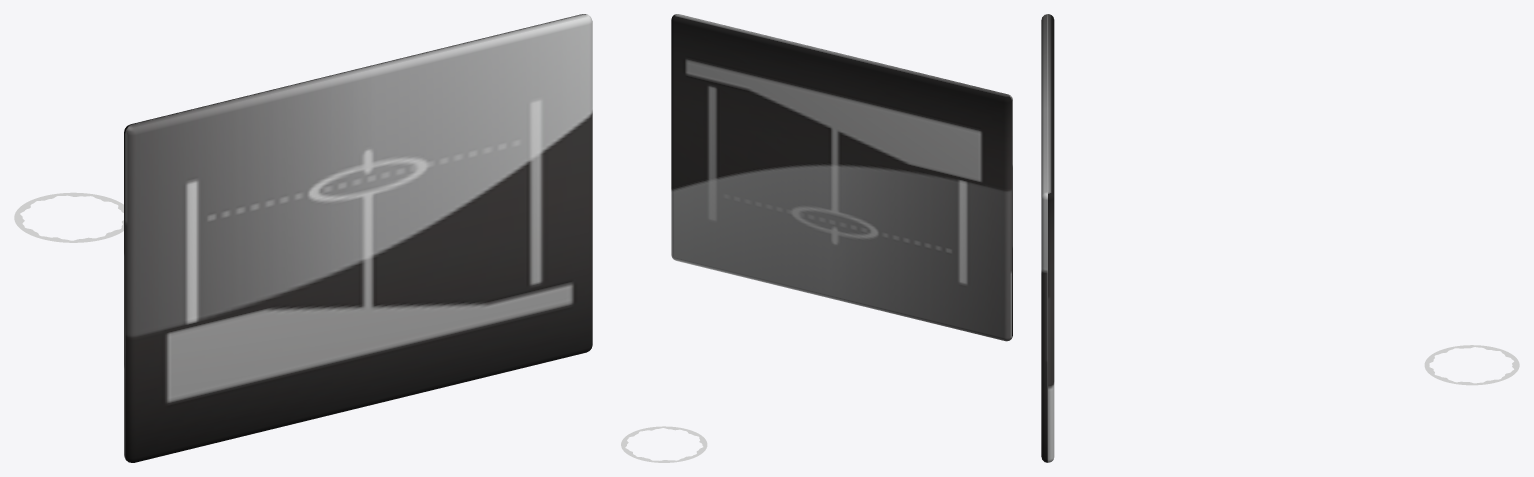
The picture shows the model from 3 angles, left to right: view 1: azimuth 30°, elevation 25°; view 2: azimuth 150°, elevation 25°; view 3: azimuth 270°, elevation 25°; orthographic projection. The views are drawn at different scales.
Parts seen in each view (by area): view 1: ChamferBox02, RingWave02; view 2: ChamferBox02, RingWave02; view 3: ChamferBox02, RingWave02.
Boxes of the visible parts, x1,y1,x2,y2 form: ChamferBox02: (124,14,592,462); RingWave02: (14,192,123,242); ChamferBox02: (671,14,1012,341); RingWave02: (621,426,707,462); ChamferBox02: (1041,14,1054,462); RingWave02: (1424,345,1519,385).
Size of the model in its own units: 27.9 by 19.29 by 30.89.
1 material, 1 textured.
